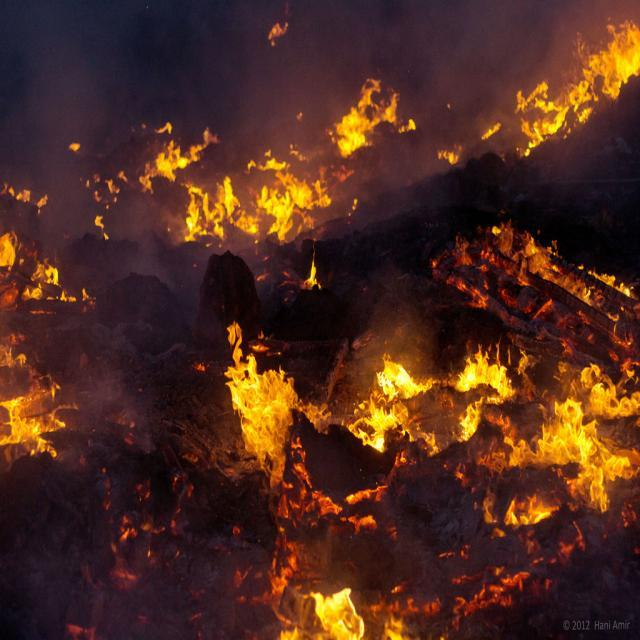Fire: (188, 175, 310, 239), (228, 350, 296, 454), (546, 401, 610, 492), (364, 360, 404, 450), (311, 581, 372, 640), (592, 30, 634, 100), (325, 101, 373, 161), (3, 395, 43, 447)
